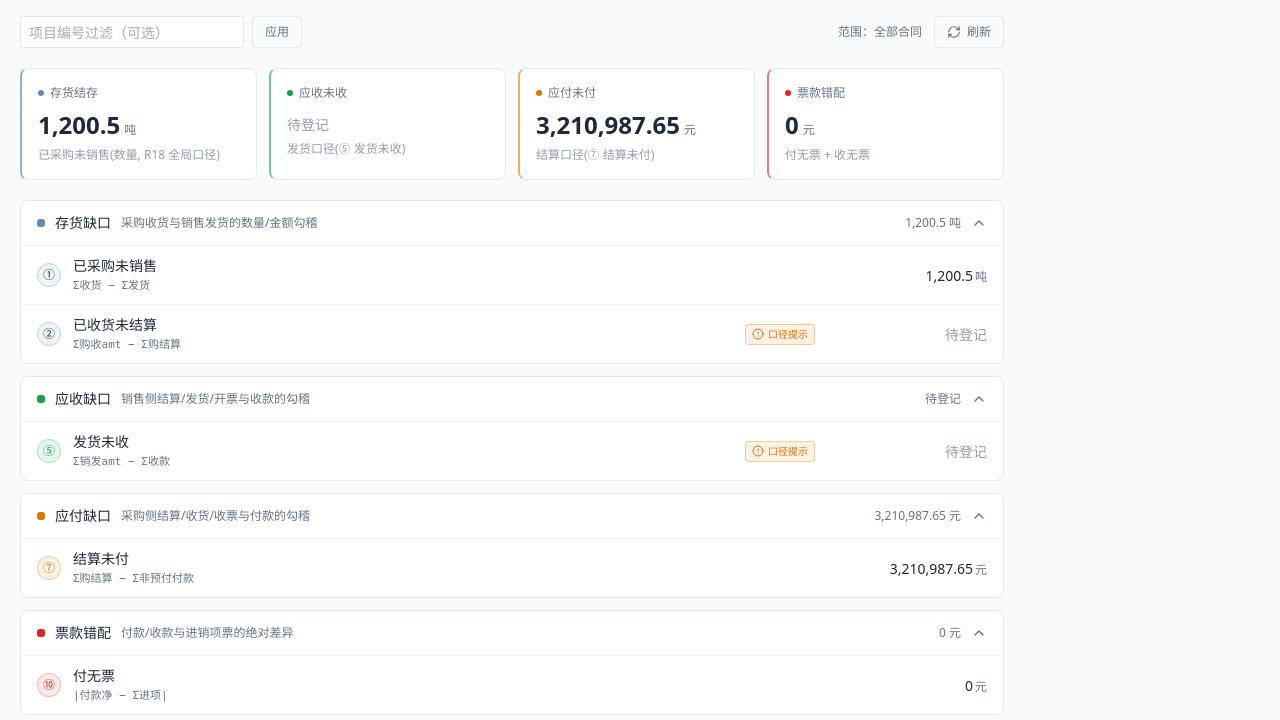
Test: GapsPanel (business-loop wave4) › projectNo 过滤显式应用触发带参重取, 清除后复位
The image size is (1280, 720).
Expected: the text "存货结存" is shown, x1=38 y1=84 x2=98 y2=101
Type "PRJ-2026-01" into the field labelled "项目编号过滤" at coordinates (132, 32), box x1=20 y1=16 x2=244 y2=48
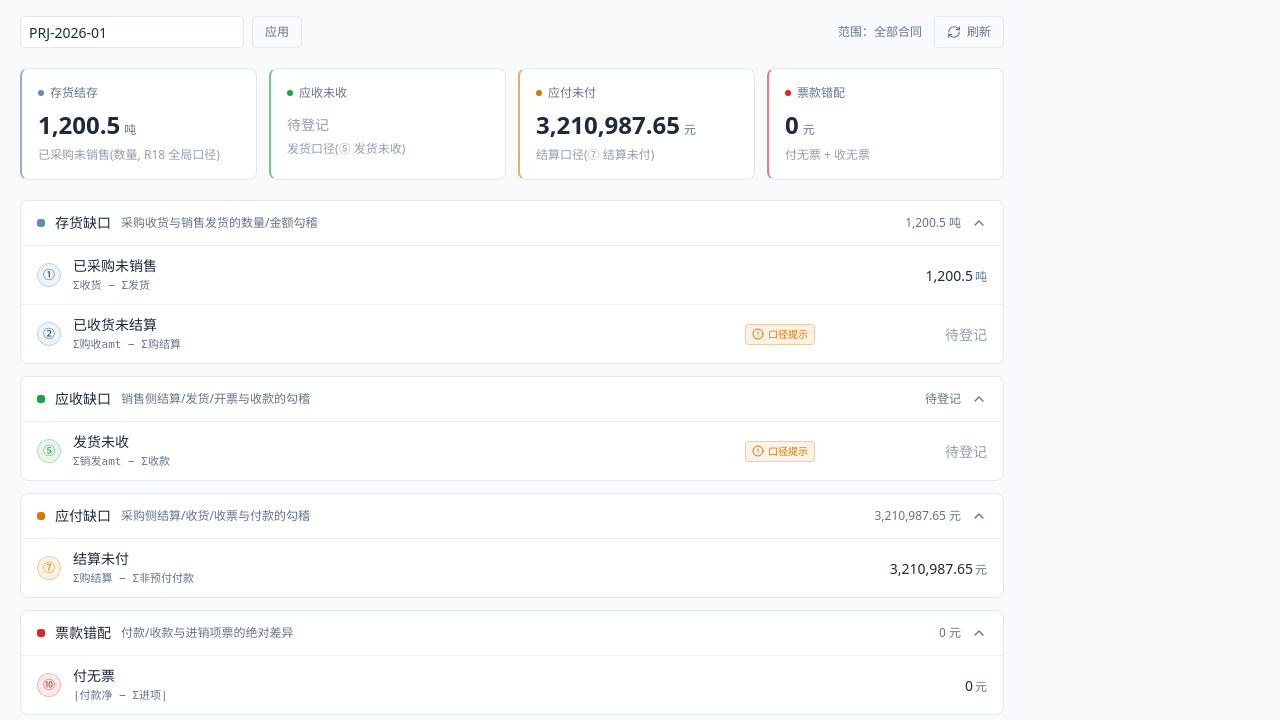
Click the button "应用" at coordinates (277, 32), box x1=252 y1=16 x2=302 y2=48
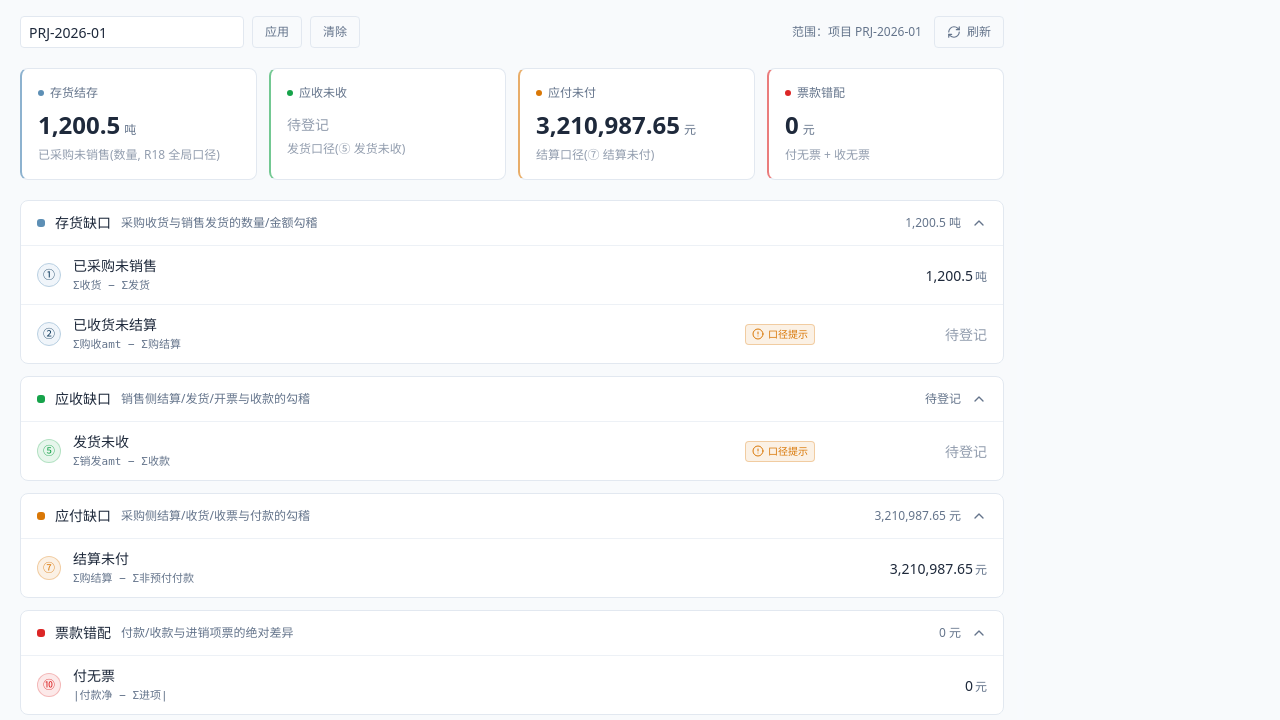
Result: the text "范围：项目 PRJ-2026-01" is shown at x1=792 y1=24 x2=922 y2=40
Click the button "清除" at coordinates (335, 32), box x1=310 y1=16 x2=360 y2=48
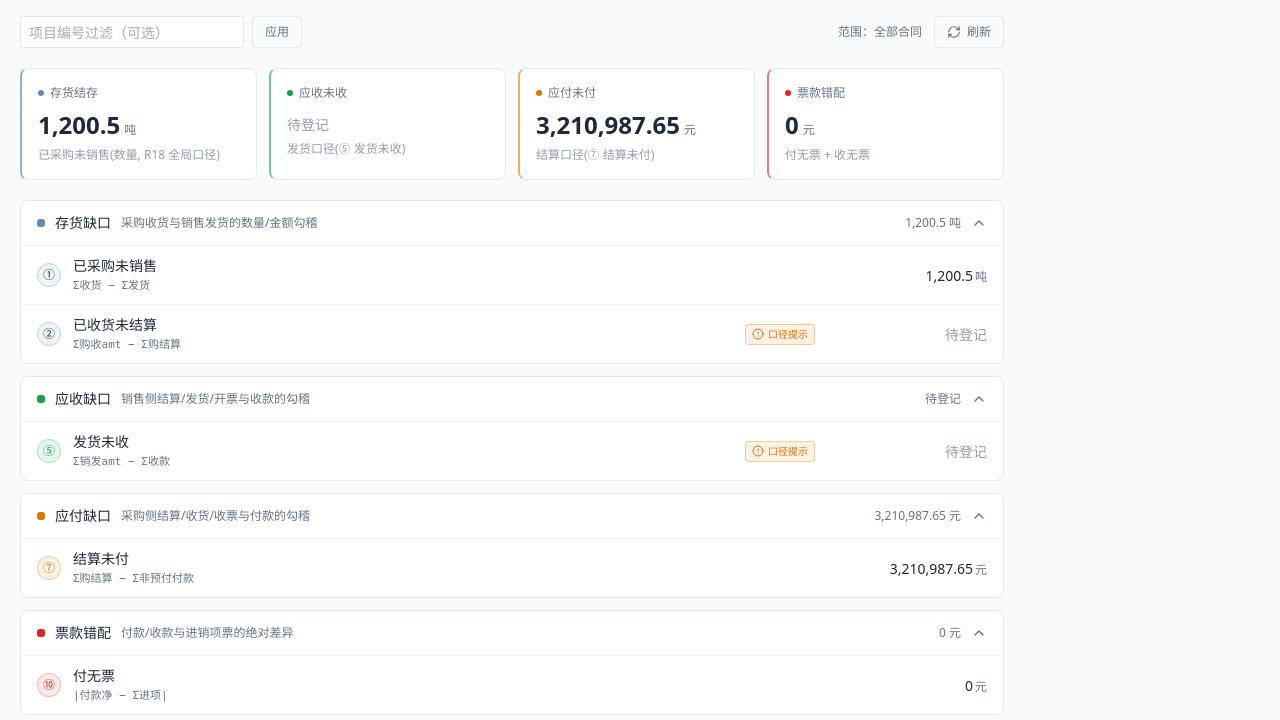
Result: the text "范围：全部合同" is shown at x1=838 y1=24 x2=922 y2=40
